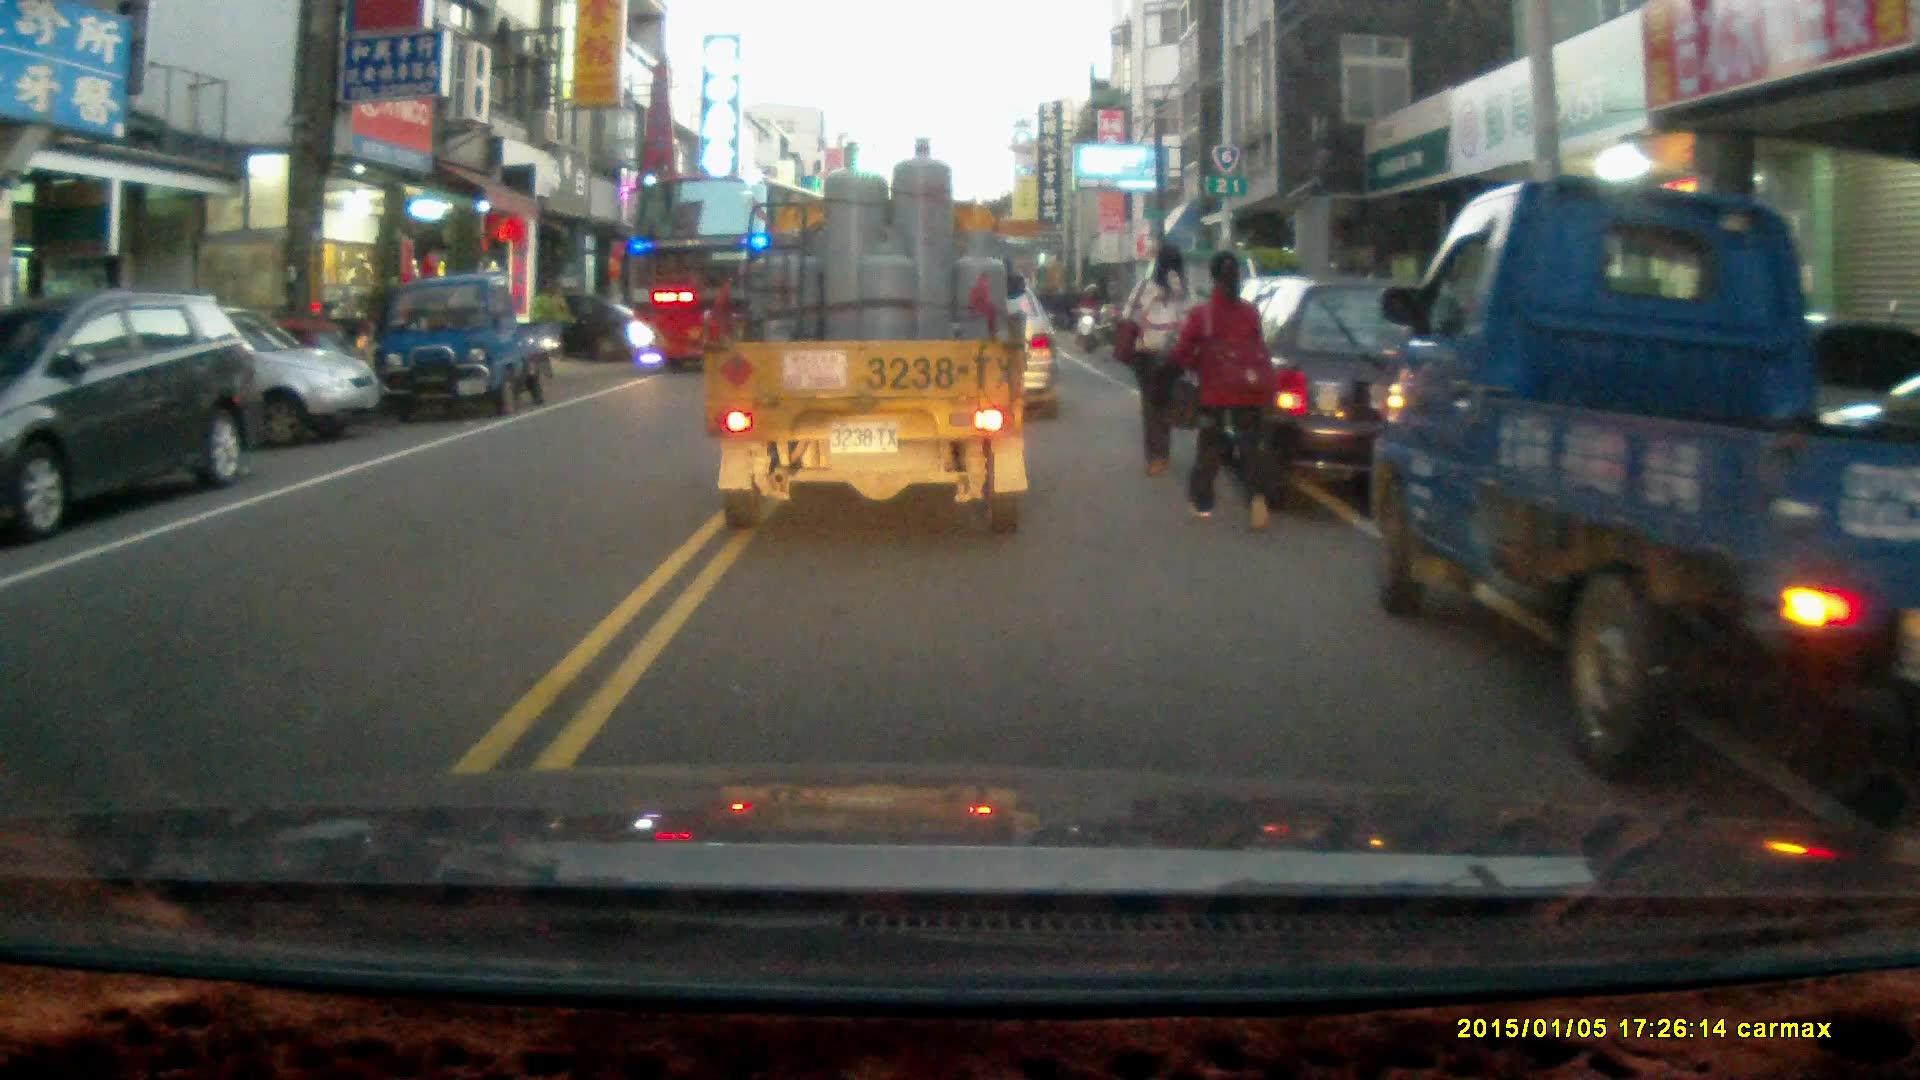pedestrian: (1171, 248, 1283, 532), (1117, 243, 1199, 480)
rider: (1075, 279, 1110, 352)
vehicle: (1371, 171, 1920, 777), (702, 132, 1037, 540), (1215, 277, 1523, 527), (1, 286, 262, 534), (624, 171, 869, 377), (57, 301, 383, 454), (374, 277, 555, 417)
